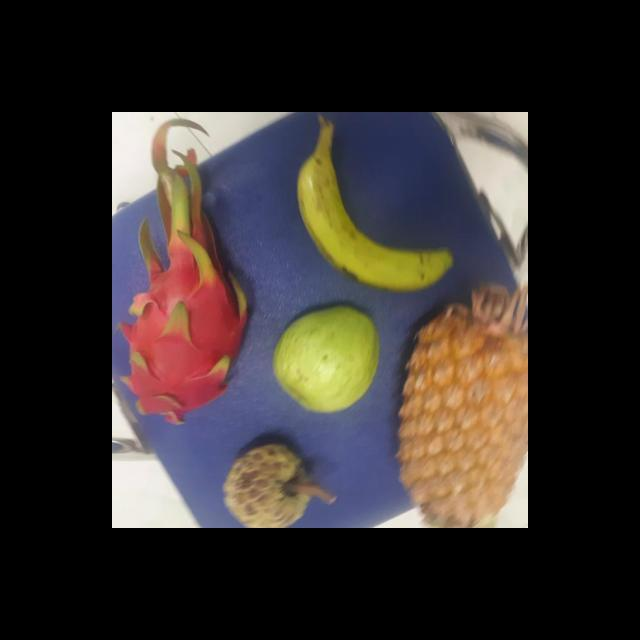Sakya fruit: (218, 440, 314, 528)
banana: (290, 148, 450, 290)
guava: (266, 306, 379, 412)
pitaya: (115, 247, 244, 420)
